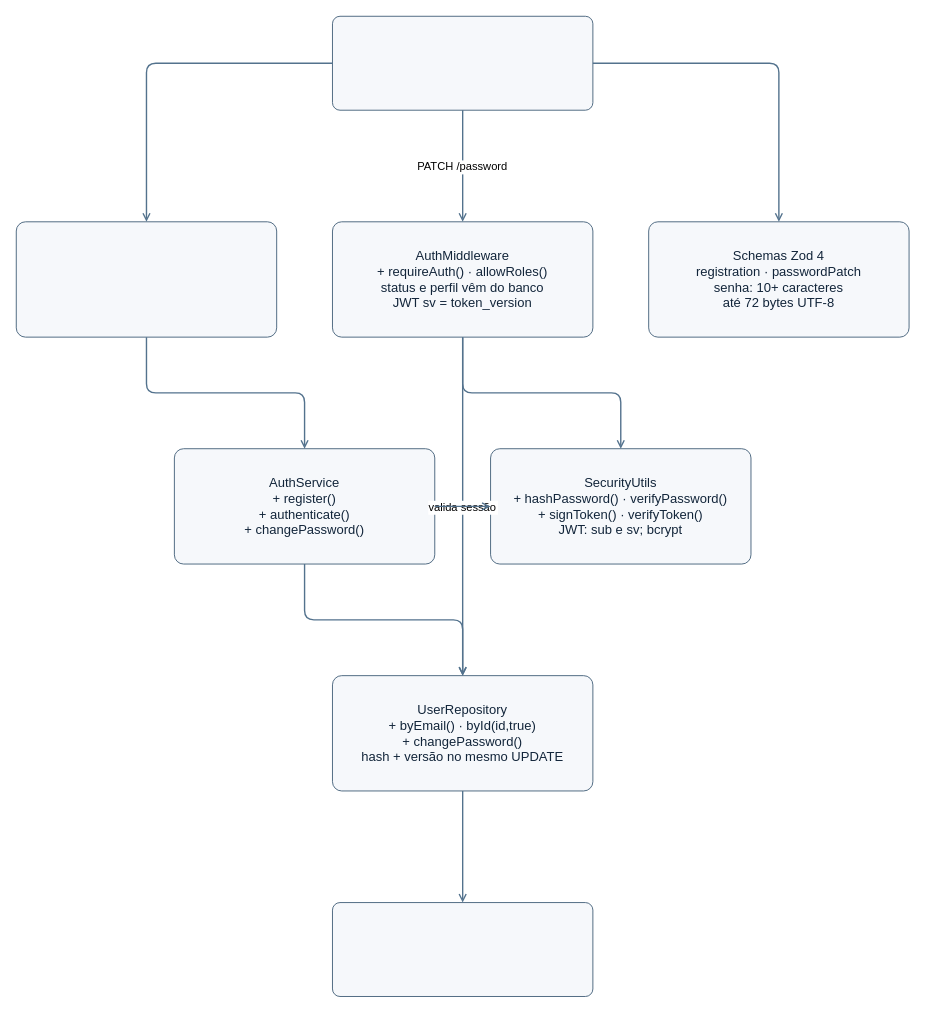
Some shapes in this 925 by 1013 pixel diagram are drawn without their labels. Each missing label, with the centre of its shape:
AuthController + register() · login() + changePassword(): point (146, 279)
AuthRoutes POST /register · POST /login PATCH /password: point (462, 62)
MySQL 8.0 / 8.4 tb_usuario senha_hash · token_version: point (462, 949)
